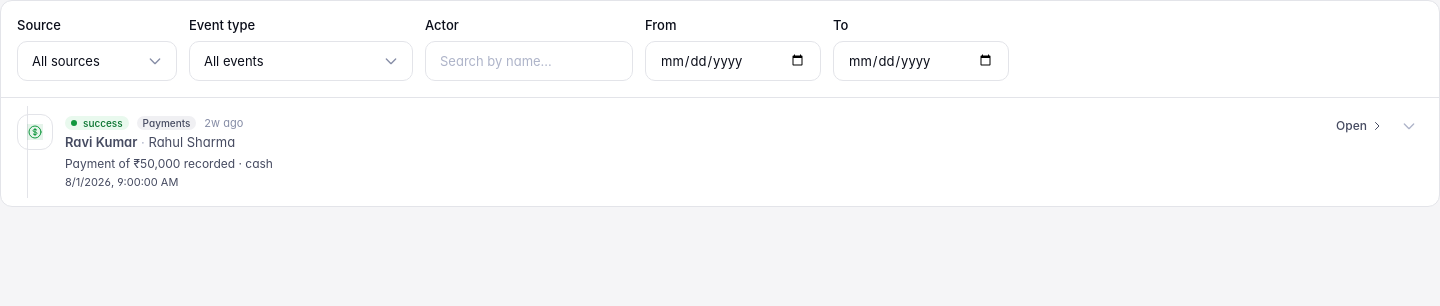
Test: Timeline component › expands and collapses metadata details
Expected: the text "Rahul Sharma" is shown, [148,134,235,150]
Expected: the text "R-001" is not shown
Click the button named "Show details".
click(1409, 126)  # box [1395,112,1423,140]
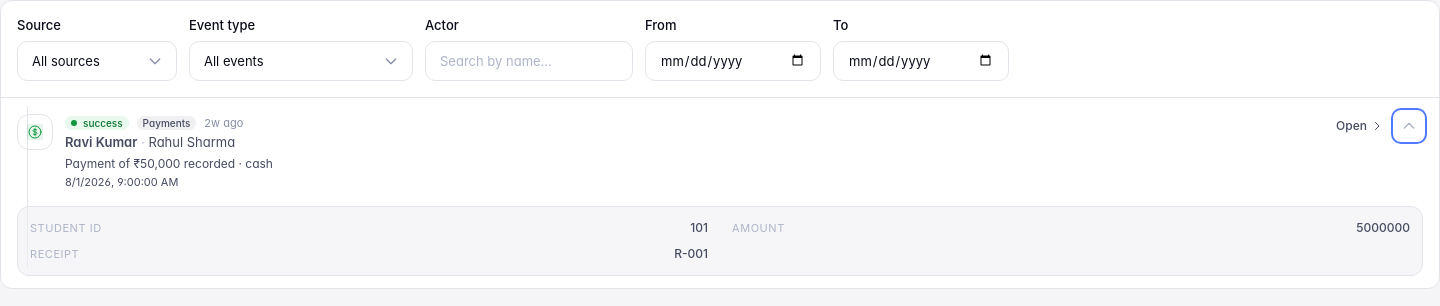
Now the text "R-001" is shown, box [674,246,708,262]
Click the button named "Collapse details".
click(1409, 126)  # box [1395,112,1423,140]
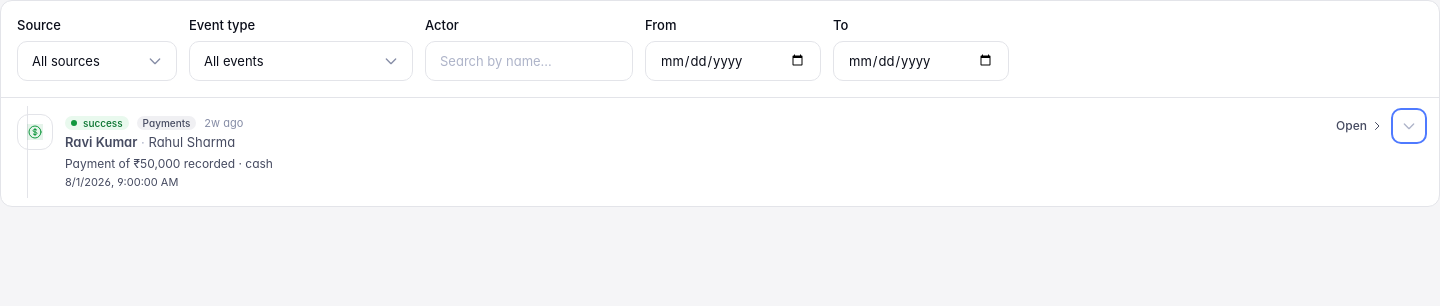
Now the text "R-001" is gone
